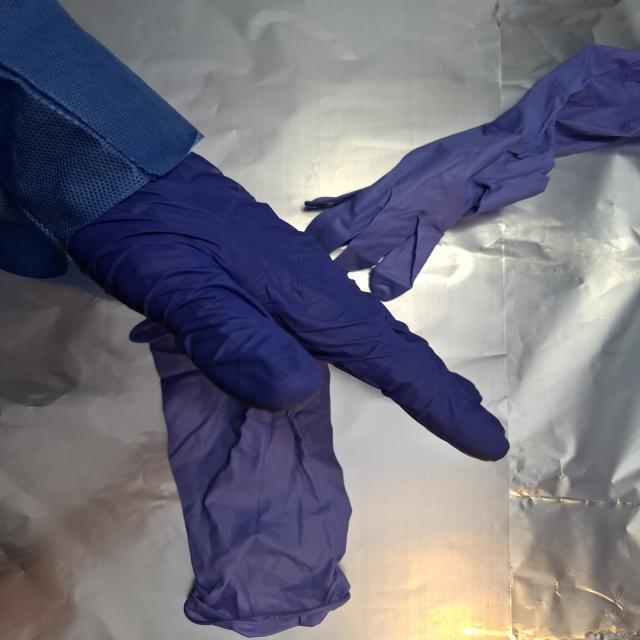glove_on: (64, 148, 513, 464)
